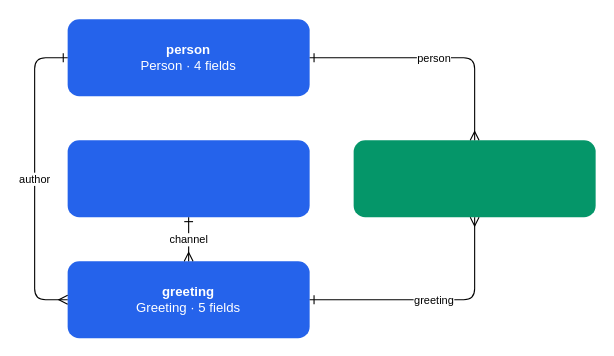
This 614x356 diagram has some shape labels left out. The shapes that lost their labels are listed below. From the top down, each one's box as (x1, y1, x2, y2) in pixels, then its label:
(67, 140, 309, 217): channel Channel · 4 fields
(353, 140, 595, 217): greeting_reaction Greeting reaction · 5 fields
